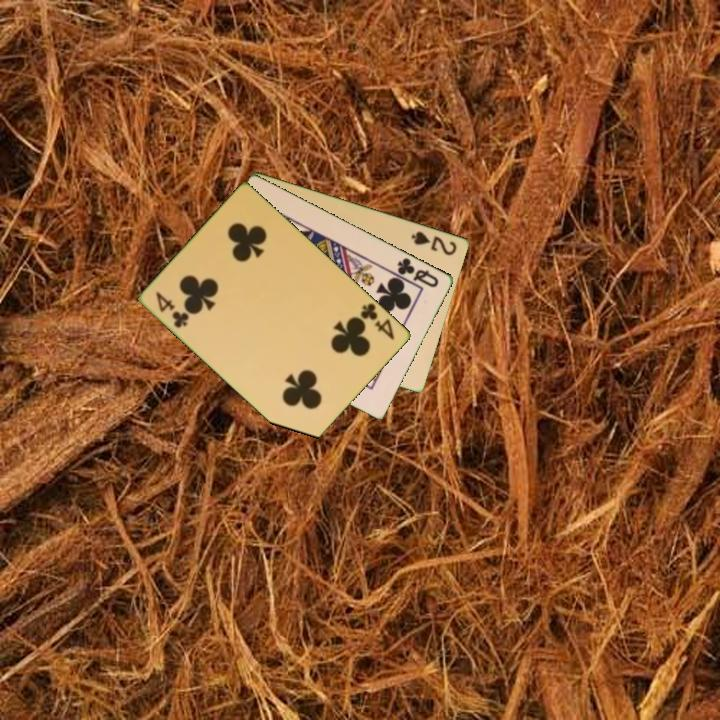2s: (408, 227, 460, 258)
4c: (357, 299, 398, 343), (152, 288, 192, 331)
Qc: (394, 254, 442, 290)
